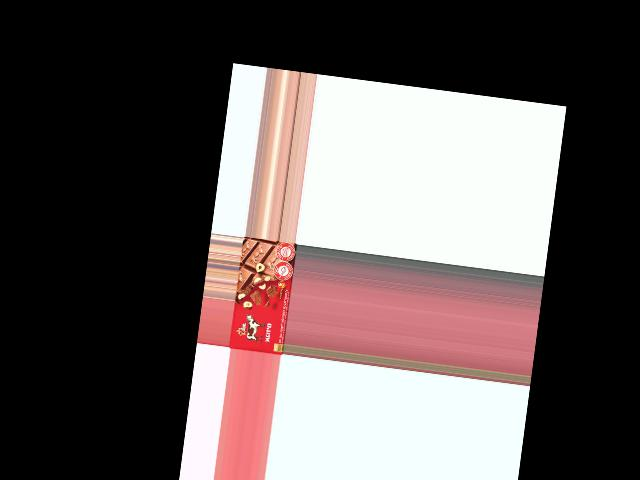chocolate: (229, 237, 295, 355)
